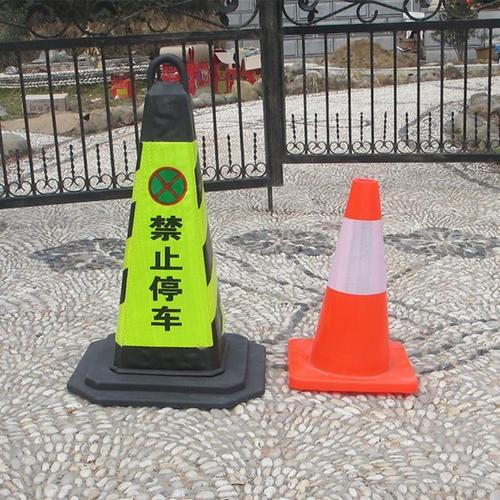cone_barrel: (92, 67, 239, 386), (299, 176, 407, 387)
